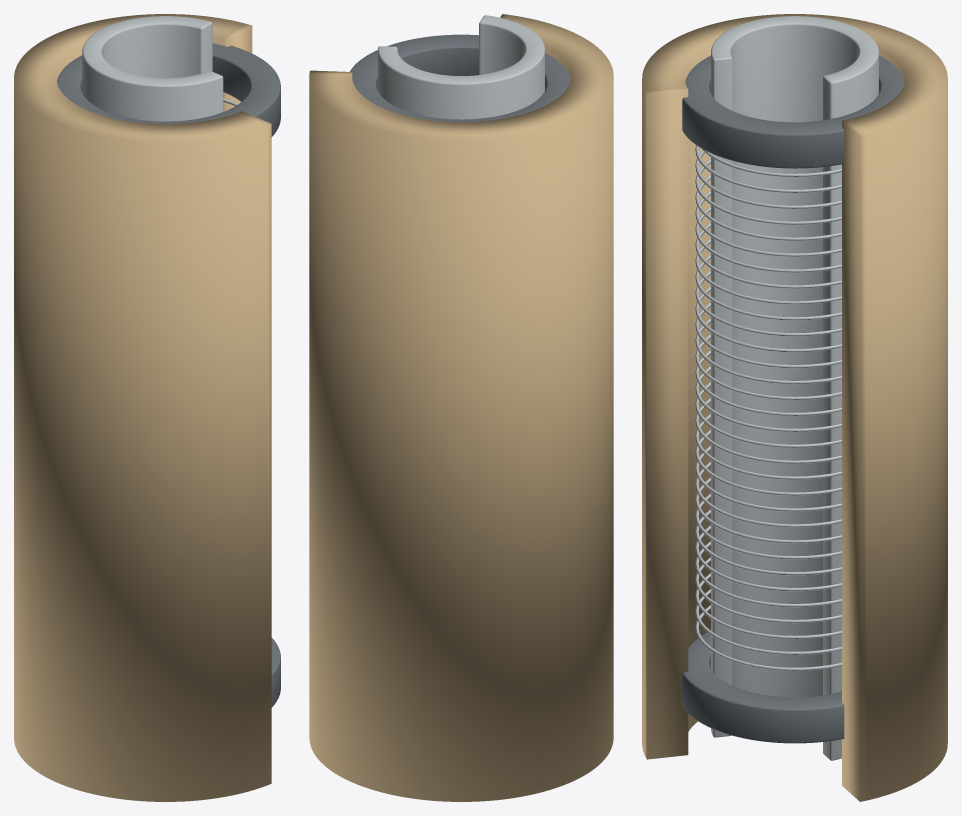
File: gravel-pack.glb
The picture shows the model from 3 angles, left to right: view 1: azimuth 30°, elevation 25°; view 2: azimuth 150°, elevation 25°; view 3: azimuth 270°, elevation 25°; orthographic projection.
Parts seen in each view (by area): view 1: Gravel annulus, Screen base pipe, End ring top, End ring bottom; view 2: Gravel annulus, Screen base pipe, End ring top; view 3: Gravel annulus, Screen base pipe, End ring top, End ring bottom, Wire wrap.024, Wire wrap.013, Wire wrap.028, Wire wrap.007, Wire wrap.011, Wire wrap.012, Wire wrap.021, Wire wrap.027 (+24 smaller).
Boxes of the visible parts, <box> form: Gravel annulus: <box>14,14,271,801</box>; Screen base pipe: <box>82,16,223,121</box>; End ring top: <box>57,43,280,136</box>; End ring bottom: <box>271,638,280,707</box>; Gravel annulus: <box>309,14,613,801</box>; Screen base pipe: <box>378,15,544,119</box>; End ring top: <box>350,34,570,122</box>; Gravel annulus: <box>642,14,947,801</box>; Screen base pipe: <box>711,16,878,760</box>; End ring top: <box>682,55,904,168</box>; End ring bottom: <box>682,632,844,743</box>; Wire wrap.024: <box>695,493,841,559</box>; Wire wrap.013: <box>695,318,841,384</box>; Wire wrap.028: <box>695,557,841,623</box>; Wire wrap.007: <box>695,222,841,288</box>; Wire wrap.011: <box>695,286,841,352</box>; Wire wrap.012: <box>695,302,841,368</box>; Wire wrap.021: <box>695,445,841,511</box>; Wire wrap.027: <box>695,541,841,607</box>.
Size of the model in its own units: 1.9 by 5 by 2.
